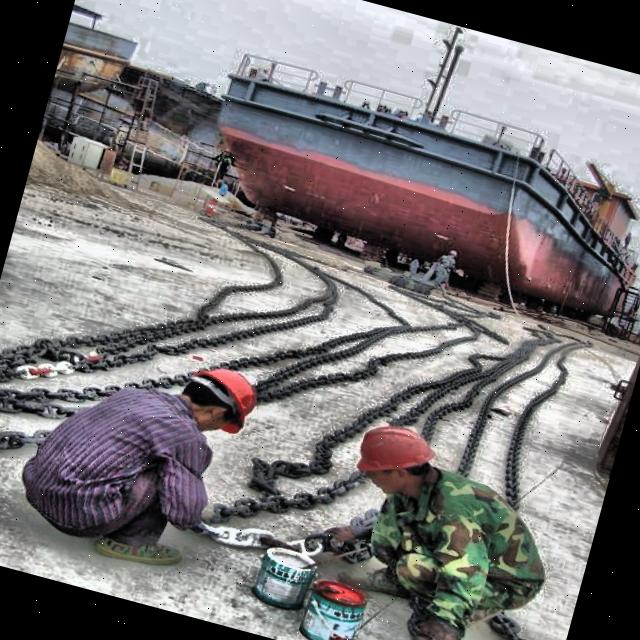helmet: (338, 409, 453, 512), (168, 353, 268, 441)
